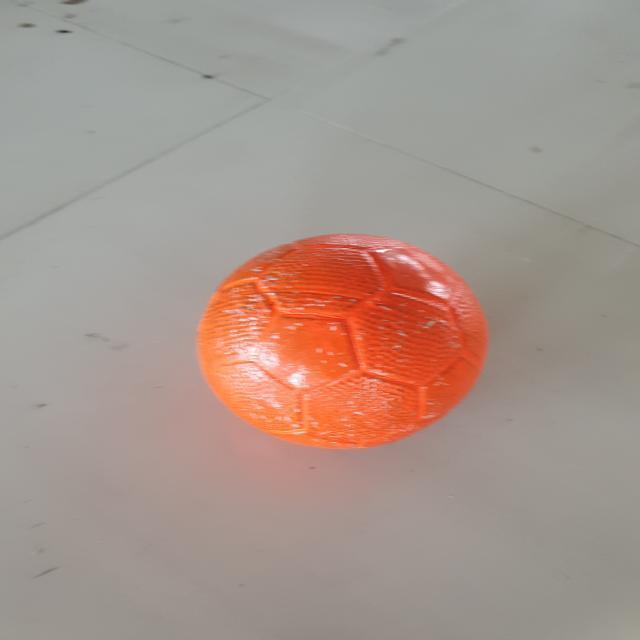bola: (197, 228, 492, 454)
